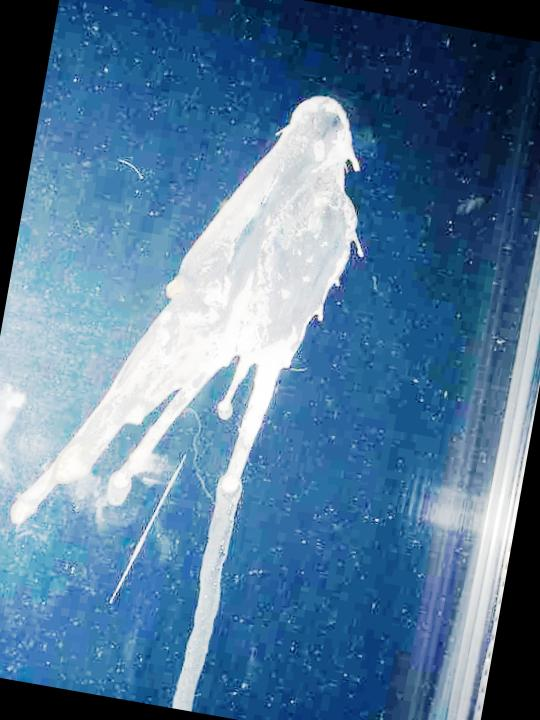Bird Poop: (13, 97, 363, 711), (0, 385, 25, 443)
